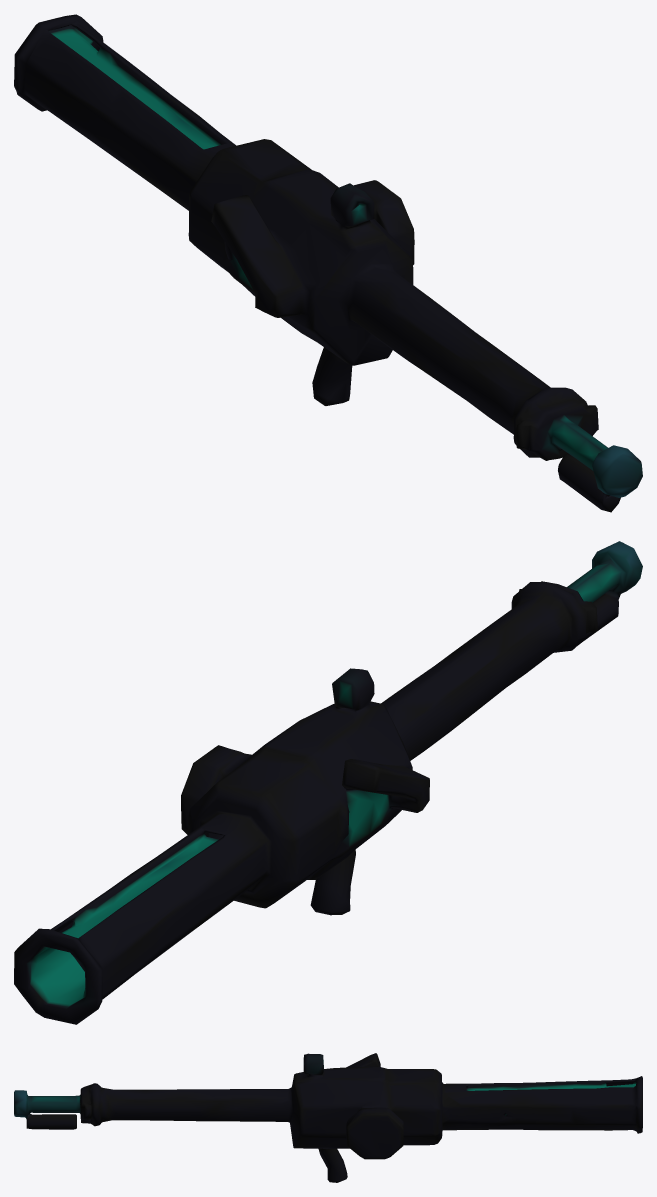
The model's file is gen3d-laser-rifle-lod0.glb.
The picture shows the model from 3 angles, top to bottom: view 1: azimuth 30°, elevation 25°; view 2: azimuth 150°, elevation 25°; view 3: azimuth 270°, elevation 25°; orthographic projection. The views are drawn at different scales.
Visible parts, largest first — view 1: part_0; view 2: part_0; view 3: part_0.
Part boxes in pixels (x1,y1,x2,y2): part_0: (14, 14, 642, 512); part_0: (14, 541, 642, 1024); part_0: (14, 1053, 642, 1182).
Bounding box in the file's own units: 0.818 × 0.9966 × 4.55.
